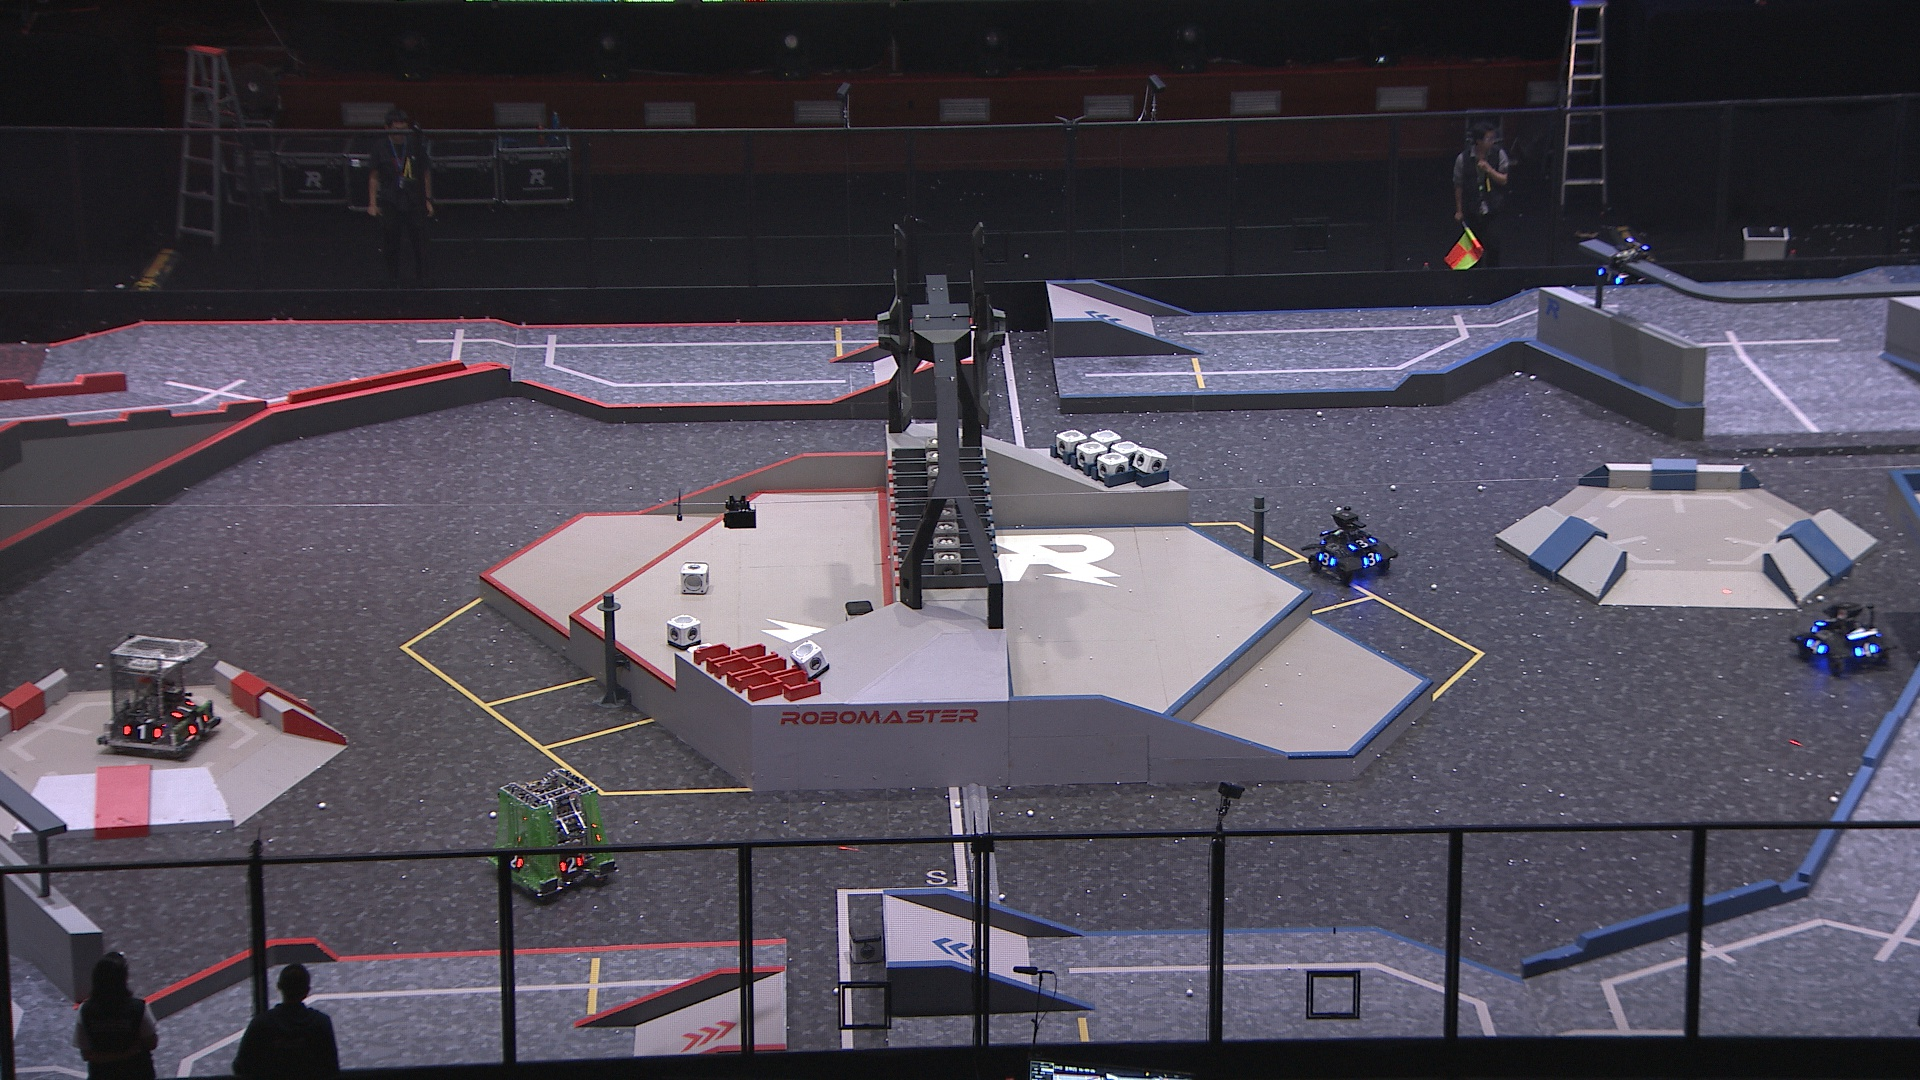armor: (123, 723, 164, 741), (171, 698, 196, 723), (186, 711, 208, 737), (1346, 534, 1378, 551), (1596, 266, 1623, 285), (1854, 641, 1880, 659), (558, 855, 583, 872), (1317, 551, 1338, 568), (1360, 551, 1382, 567), (1807, 638, 1826, 655), (506, 853, 524, 870)
car: (484, 764, 615, 905), (98, 632, 225, 761), (1789, 599, 1898, 679), (1302, 501, 1399, 582)
watcher: (1594, 235, 1652, 289)
